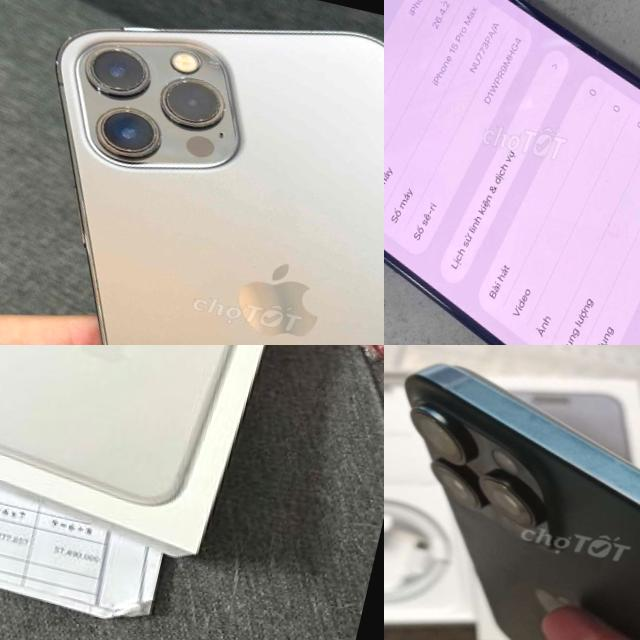gen_12_13: (0, 0, 384, 345)
gen_15: (384, 0, 640, 345), (384, 345, 640, 640)
gen_17: (0, 345, 285, 537)
